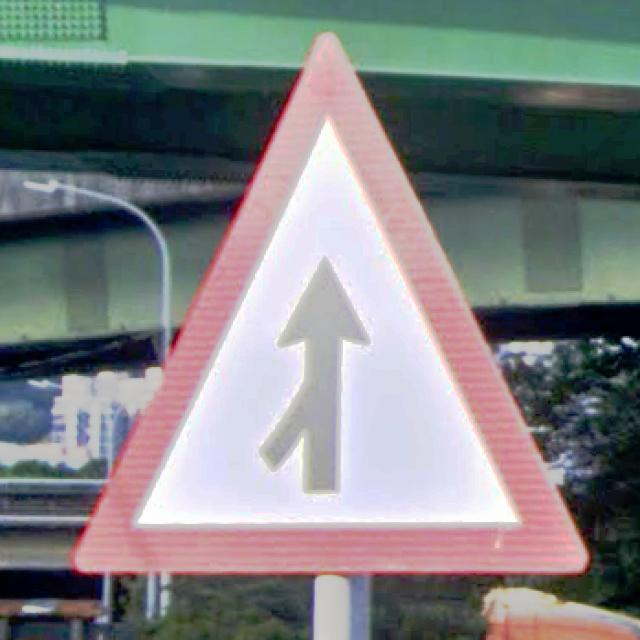leftmerge: (72, 34, 589, 577)
